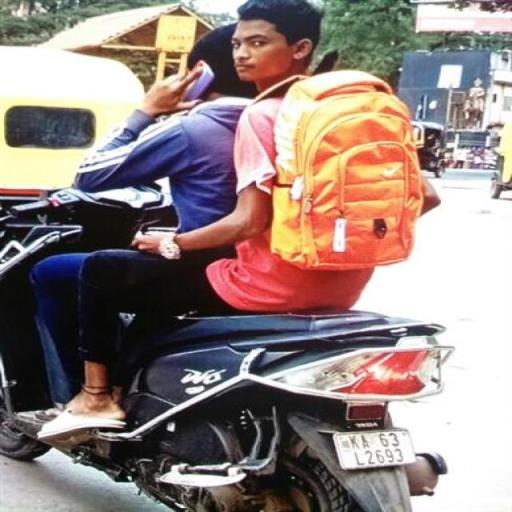numberplate: (146, 57, 220, 110), (334, 425, 420, 465)
